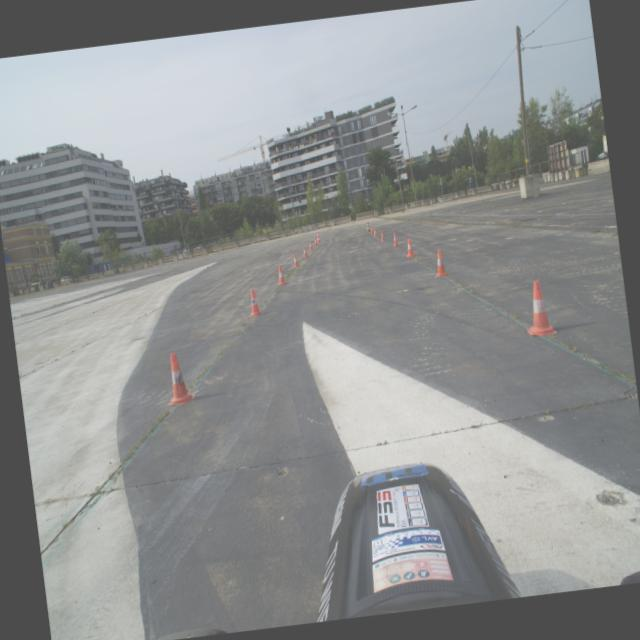large_orange_cone: (365, 221, 371, 232), (316, 231, 320, 242)
orange_cone: (521, 278, 557, 336), (160, 350, 196, 406), (246, 288, 264, 316), (432, 248, 449, 277), (276, 265, 286, 285), (404, 238, 414, 256), (292, 253, 300, 267), (391, 232, 399, 246), (379, 230, 385, 242), (302, 246, 308, 257), (372, 227, 378, 237), (308, 240, 313, 250), (369, 226, 374, 233), (314, 237, 318, 244)
